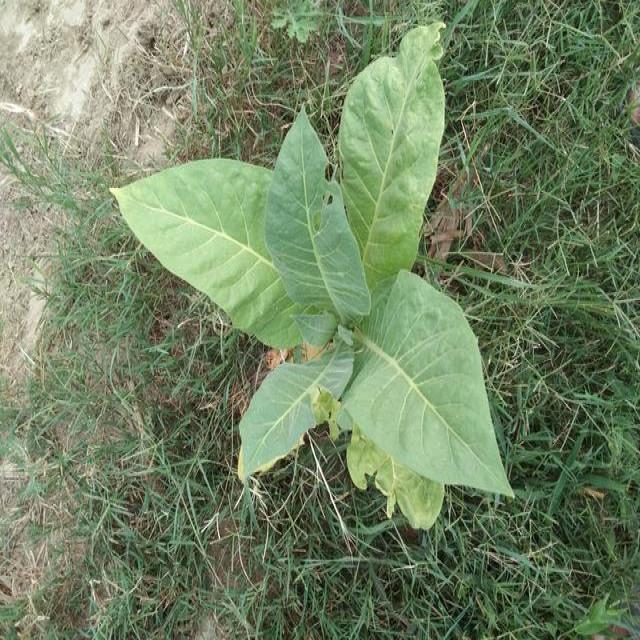crop: (106, 38, 520, 530)
